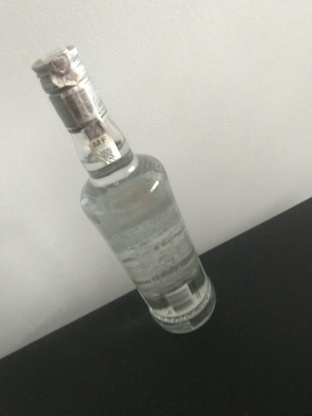nakretka: (30, 43, 108, 135)
